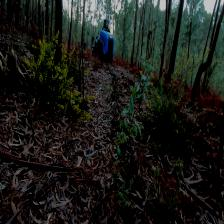trunktrack_idkeyframe: (190, 14, 223, 100), (167, 2, 184, 79), (130, 0, 139, 65), (54, 0, 63, 63), (68, 1, 73, 48)
